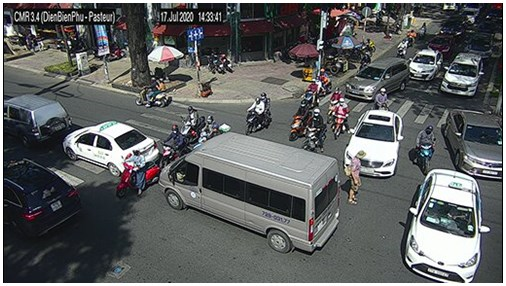di_bo: (345, 151, 366, 203)
xe_hoi: (3, 160, 79, 235), (443, 109, 502, 178), (345, 110, 403, 178), (4, 94, 72, 145), (344, 57, 409, 101), (440, 52, 484, 96), (408, 49, 444, 82), (427, 35, 455, 57), (467, 35, 492, 58)
xe_khach: (158, 131, 341, 255)
xe_may: (116, 148, 160, 197), (415, 125, 436, 173), (246, 92, 271, 132), (304, 109, 327, 152), (136, 77, 167, 108), (160, 124, 181, 169), (193, 116, 222, 147), (290, 100, 312, 139), (179, 106, 206, 134), (332, 98, 349, 138), (302, 79, 319, 110), (328, 87, 342, 122), (316, 69, 331, 96), (374, 88, 389, 111), (397, 39, 408, 57), (407, 30, 417, 48), (419, 23, 427, 40)
xe_taxi: (405, 169, 490, 284), (62, 120, 159, 176)
